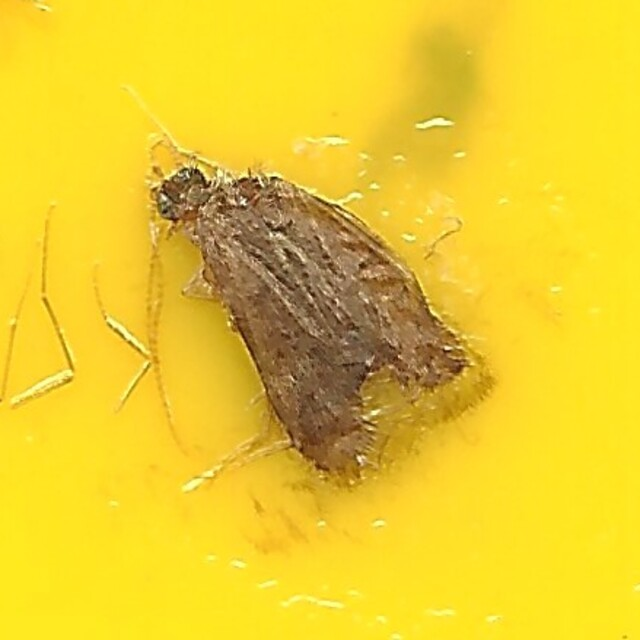Trichoptera: (146, 151, 494, 489)
